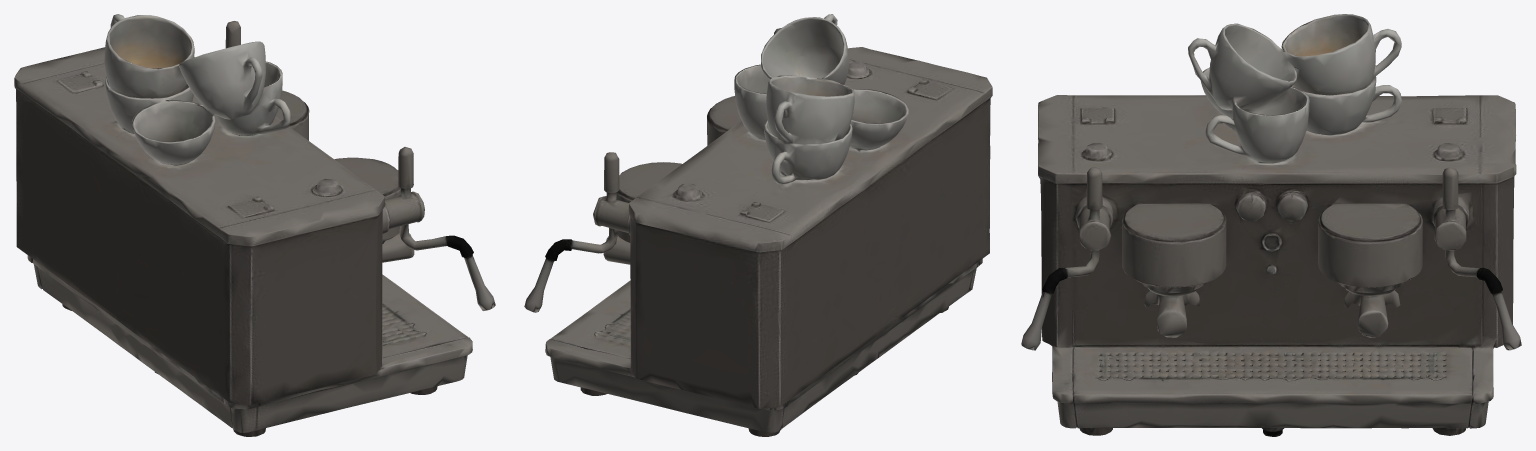
Rendered from coffee.glb.
3 renders of one model, left to right at view 1: azimuth 30°, elevation 25°; view 2: azimuth 150°, elevation 25°; view 3: azimuth 270°, elevation 25°, orthographic. The views are drawn at different scales.
Parts seen in each view (by area): view 1: tripo_node_e71b51c3-8960-494a-af9b-4c9fbbba26d3; view 2: tripo_node_e71b51c3-8960-494a-af9b-4c9fbbba26d3; view 3: tripo_node_e71b51c3-8960-494a-af9b-4c9fbbba26d3.
Boxes of the visible parts, x1=… form: tripo_node_e71b51c3-8960-494a-af9b-4c9fbbba26d3: x1=14, y1=14, x2=495, y2=436; tripo_node_e71b51c3-8960-494a-af9b-4c9fbbba26d3: x1=524, y1=14, x2=992, y2=436; tripo_node_e71b51c3-8960-494a-af9b-4c9fbbba26d3: x1=1021, y1=14, x2=1521, y2=436.
Bounding box in the file's own units: 0.8024 × 1 × 1.33.
1 material, 1 textured.
